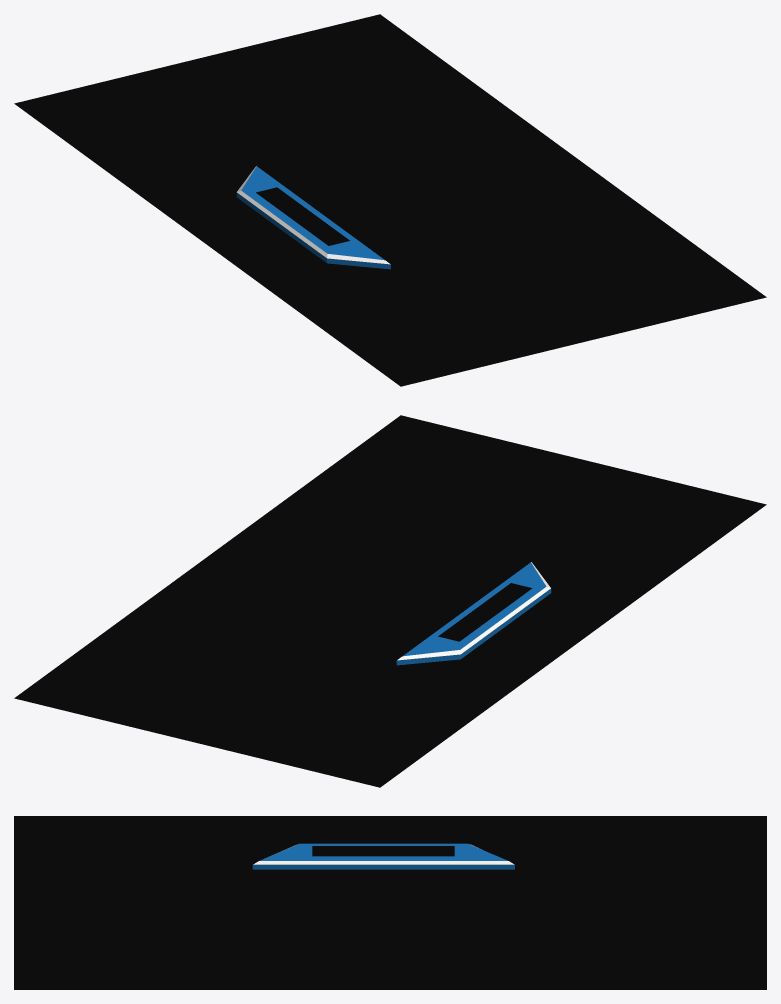
The model's file is ResultPanel.fbx.
The picture shows the model from 3 angles, top to bottom: view 1: azimuth 30°, elevation 25°; view 2: azimuth 150°, elevation 25°; view 3: azimuth 270°, elevation 25°; orthographic projection. The views are drawn at different scales.
Visible parts, largest first — view 1: ResultPanel, Continue; view 2: ResultPanel, Continue; view 3: ResultPanel, Continue.
Part boxes in pixels (x1=…): ResultPanel: x1=14, y1=14, x2=766, y2=386; Continue: x1=236, y1=166, x2=390, y2=269; ResultPanel: x1=14, y1=415, x2=766, y2=787; Continue: x1=396, y1=562, x2=551, y2=665; ResultPanel: x1=14, y1=816, x2=766, y2=989; Continue: x1=252, y1=843, x2=514, y2=869.
Bounding box in the file's own units: 2.19 × 0.0924 × 4.
